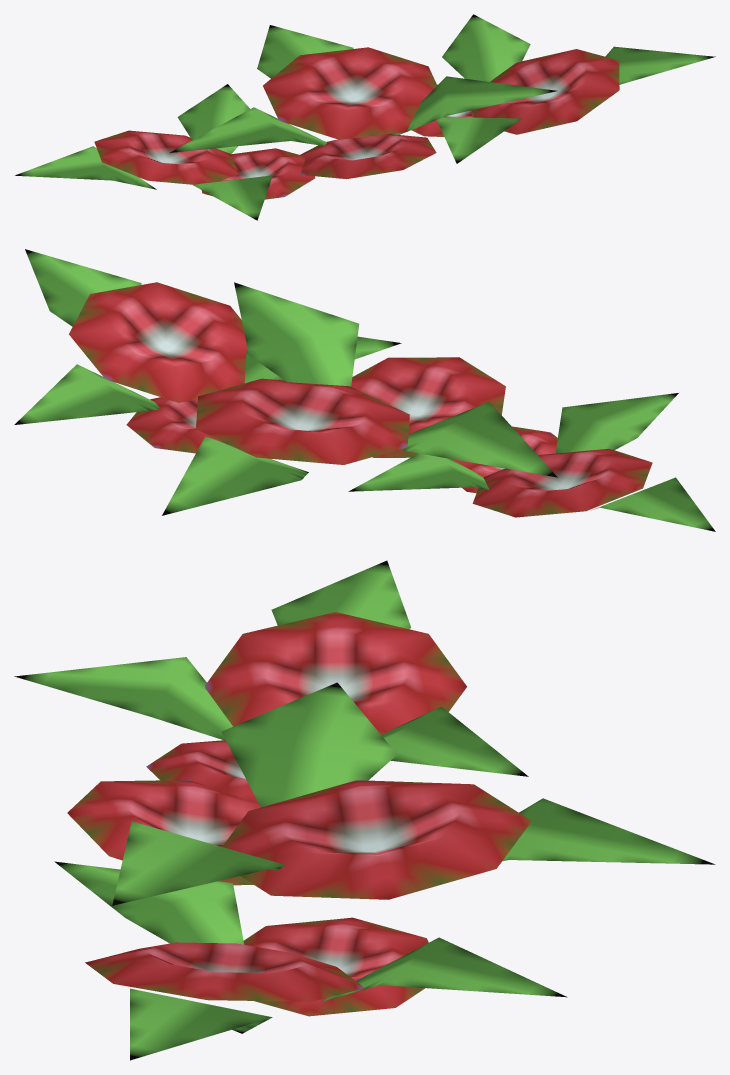
Rendered from deco_flowerGroup_red.FBX.
3 renders of one model, top to bottom at view 1: azimuth 30°, elevation 25°; view 2: azimuth 150°, elevation 25°; view 3: azimuth 270°, elevation 25°, orthographic. The views are drawn at different scales.
Parts seen in each view (by area): view 1: deco_flowerGroup_red; view 2: deco_flowerGroup_red; view 3: deco_flowerGroup_red.
Boxes of the visible parts, box(x1,y1,x2,y2) form: deco_flowerGroup_red: box(15, 14, 715, 220); deco_flowerGroup_red: box(14, 249, 715, 531); deco_flowerGroup_red: box(14, 560, 715, 1060).
Bounding box in the file's own units: 1.85 × 0.1701 × 1.03.
1 material, 1 textured.
